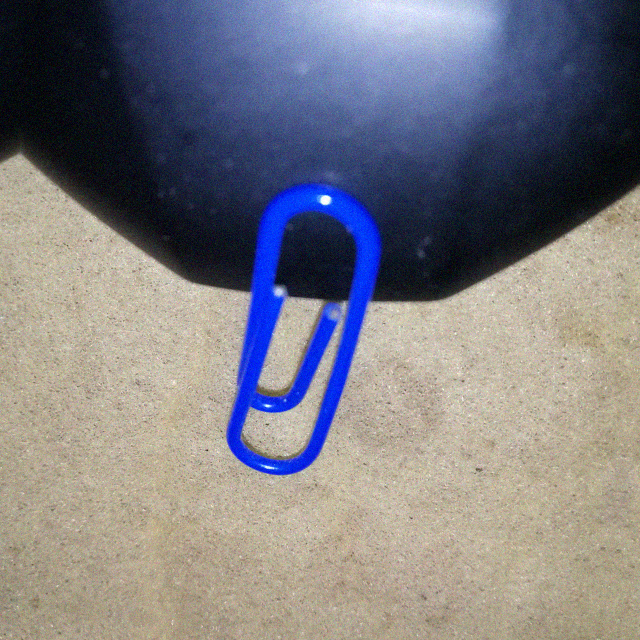pin: (221, 182, 384, 492)
